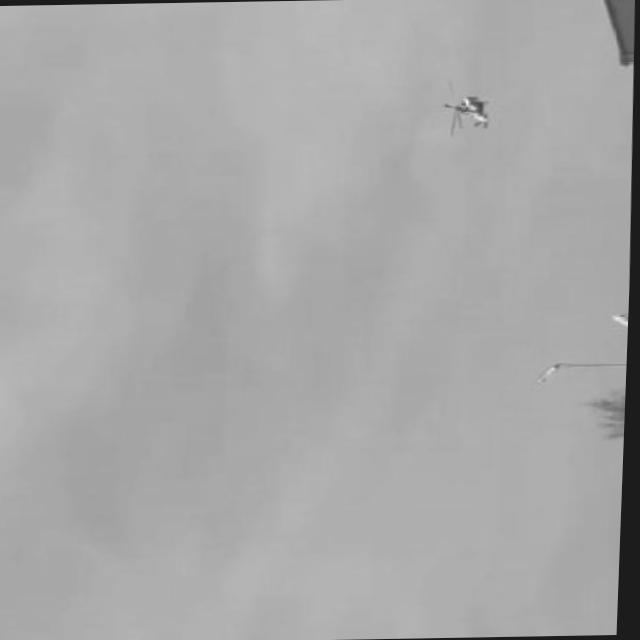helikopter: (434, 86, 500, 136)
